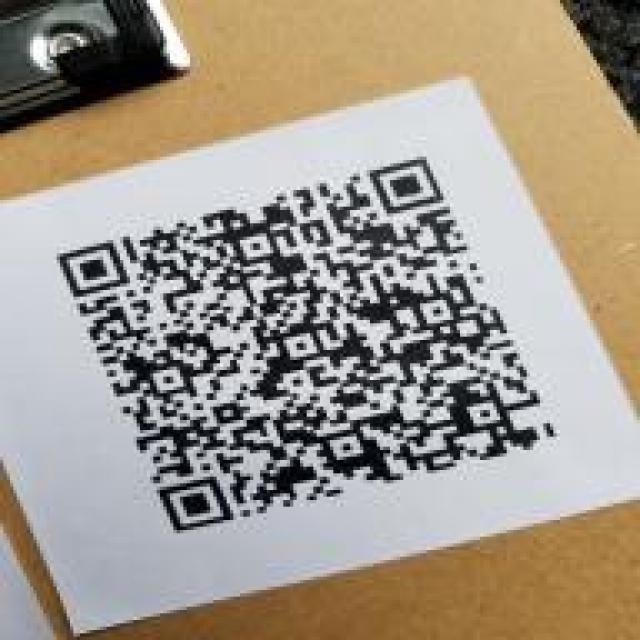qr_code: (56, 157, 558, 534)
